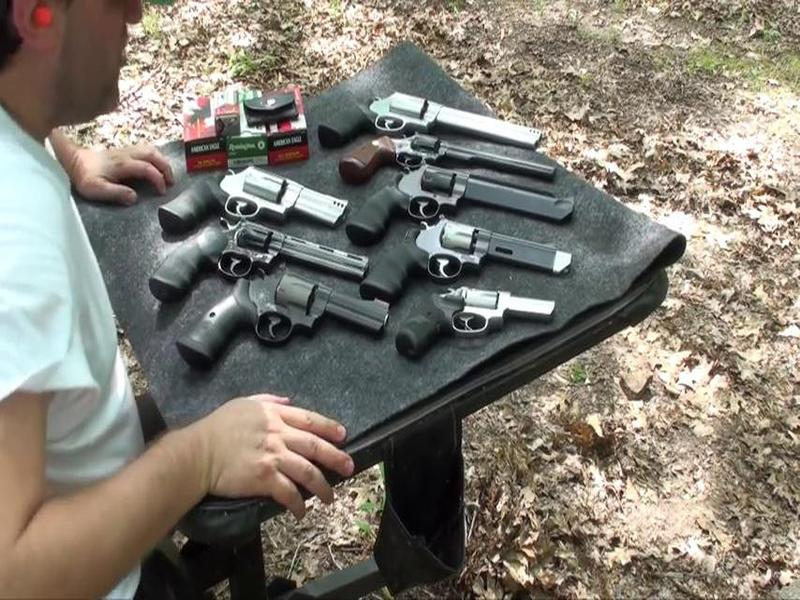Revolver: (322, 75, 550, 153), (171, 279, 389, 358), (356, 162, 578, 232), (158, 163, 349, 234), (397, 280, 559, 350)
